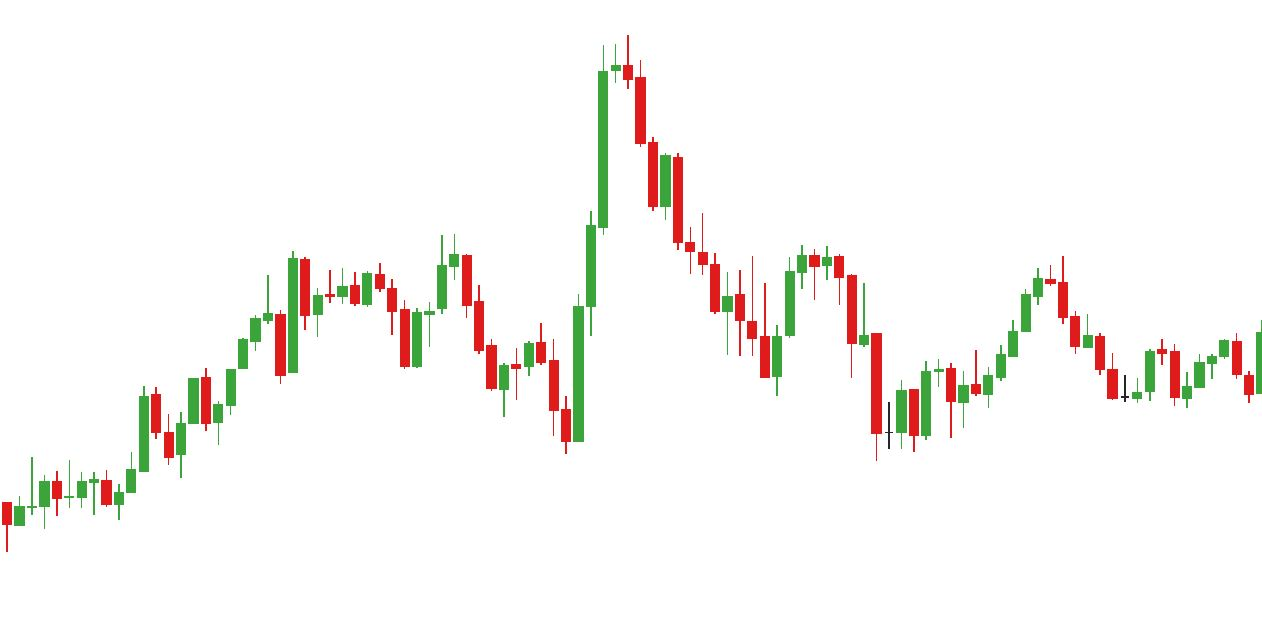buy: (756, 302, 911, 465)
sell: (373, 228, 473, 335)
